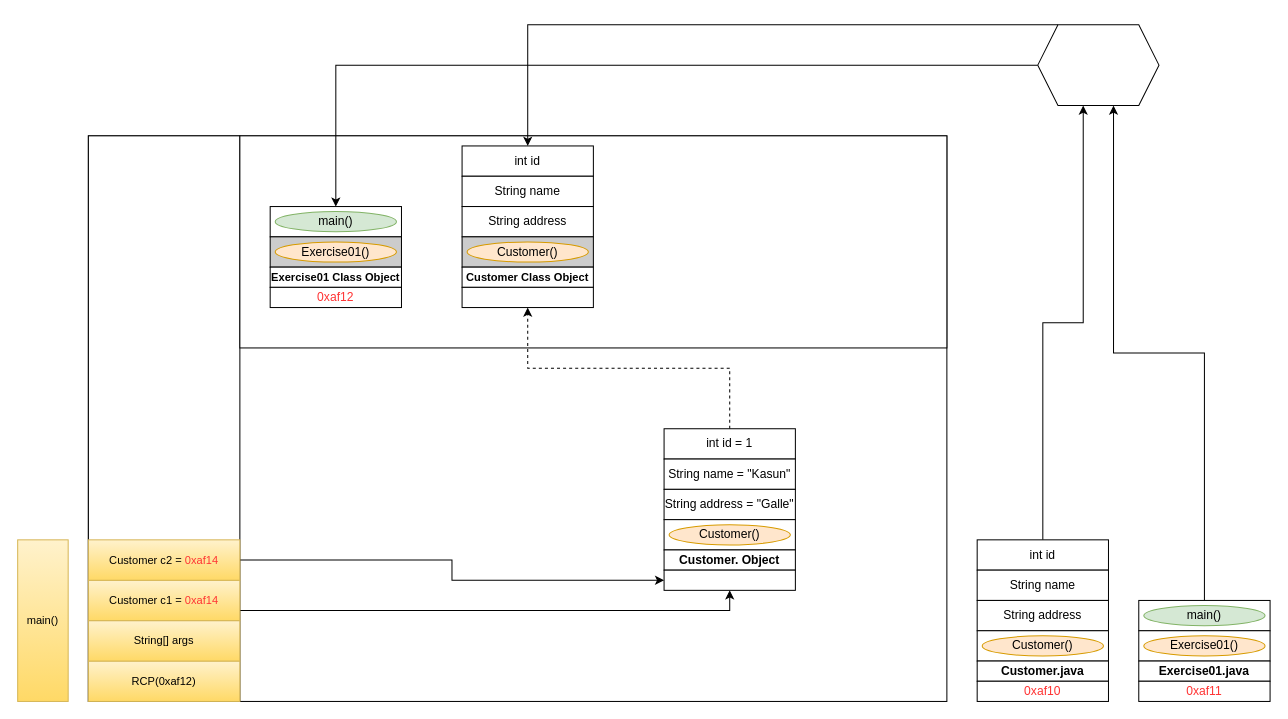
This 1288x719 diagram has some shape labels left out. Here are the shapes that lost their labels. From the top down, the box of each, then its label:
(1037, 24, 1159, 106): Class Loader
(461, 286, 593, 308): 0xaf13
(663, 569, 795, 590): 0xaf14
